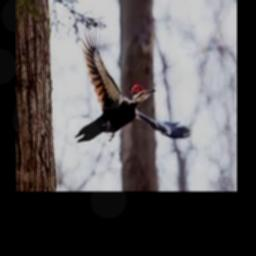Woodpecker: (75, 28, 191, 142)
